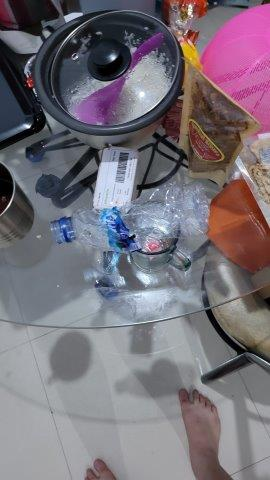botolplastik: (51, 183, 210, 245)
